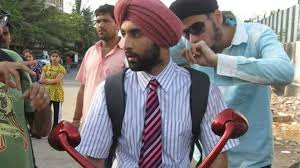helmet: (112, 1, 183, 74)
